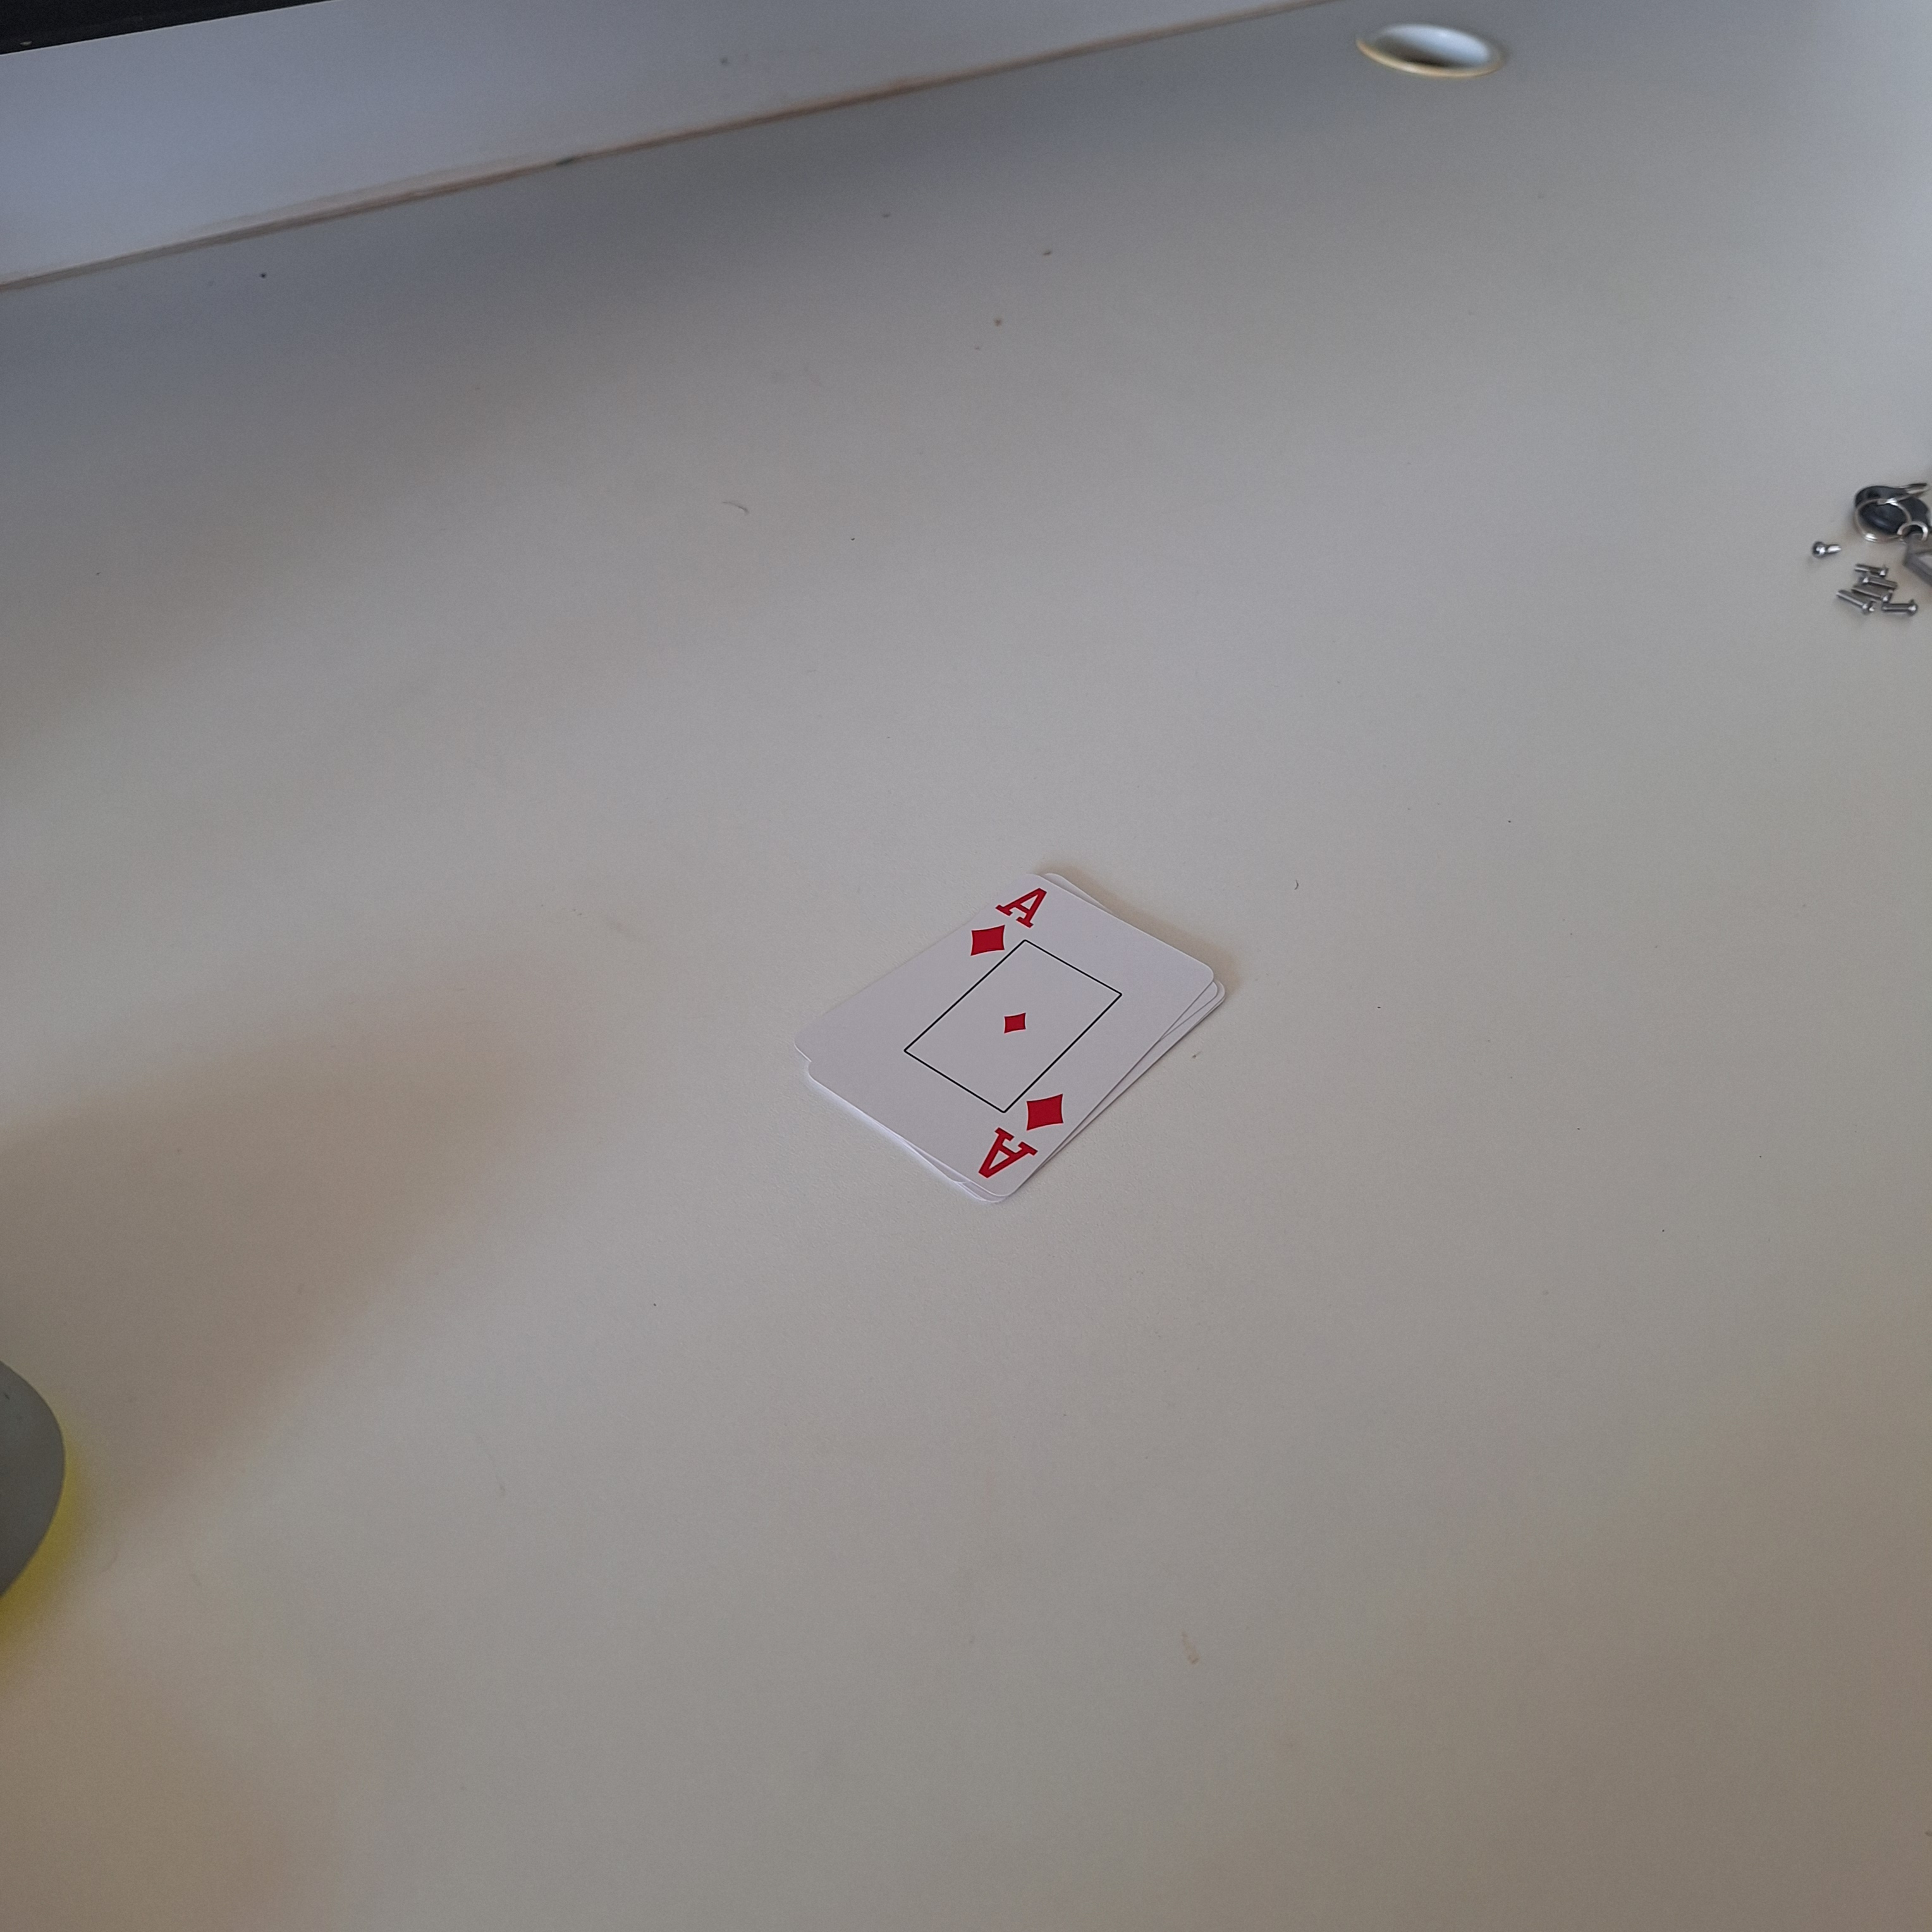AO: (964, 1086, 1077, 1191), (964, 881, 1051, 961)
